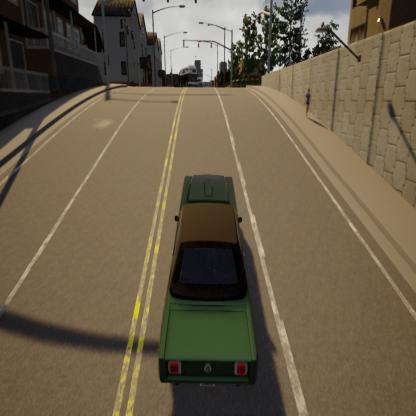Cars: (150, 165, 267, 399), (175, 62, 200, 89)
Pedestrian: (301, 82, 313, 125)
